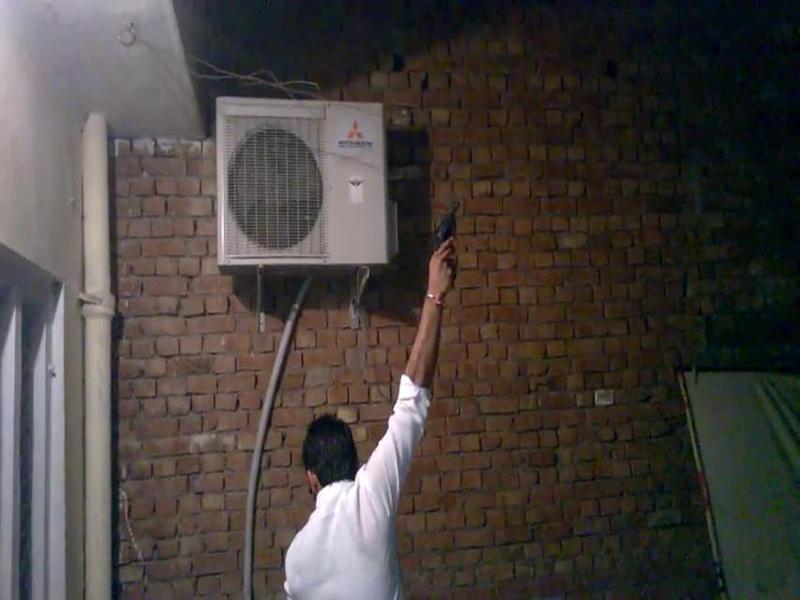Revolver: (421, 189, 473, 290)
